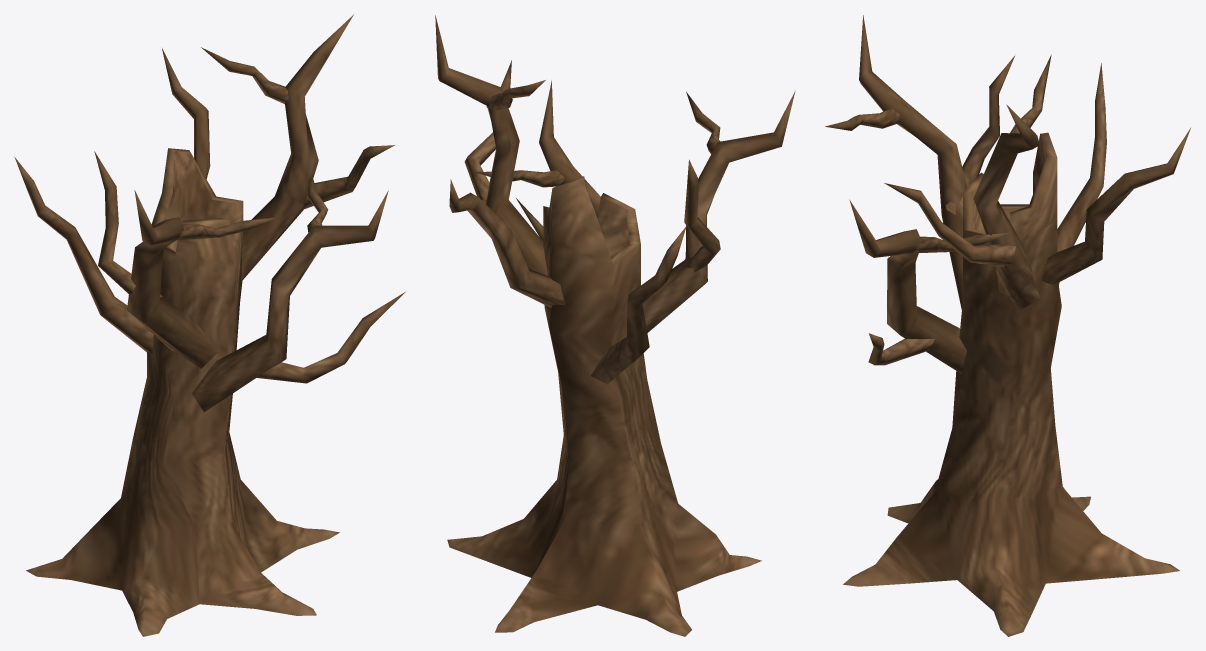
Rendered from e_tree_3.FBX.
3 views of the same model, side by side, from view 1: azimuth 30°, elevation 25°; view 2: azimuth 150°, elevation 25°; view 3: azimuth 270°, elevation 25° (orthographic). The views are drawn at different scales.
Visible parts, largest first — view 1: Cylinder007; view 2: Cylinder007; view 3: Cylinder007.
Boxes of the visible parts, x1,y1,x2,y2 form: Cylinder007: (14, 14, 405, 636); Cylinder007: (435, 15, 795, 636); Cylinder007: (825, 15, 1190, 636).
Bounding box in the file's own units: 70.64 × 72.93 × 118.
